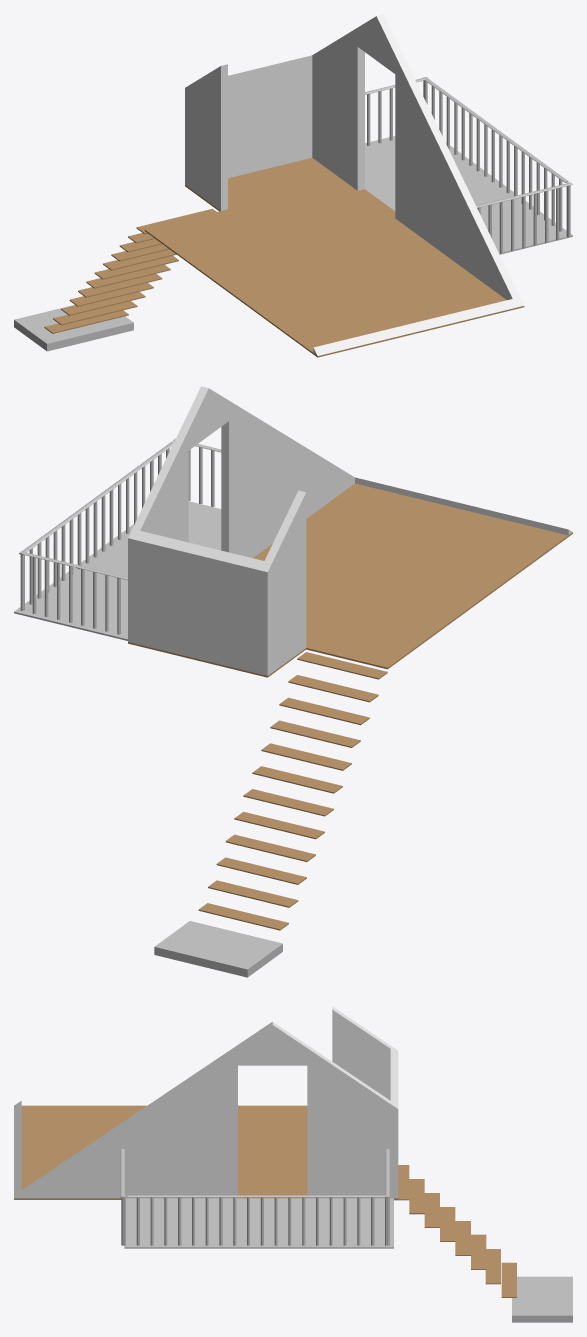
The model's file is Yogaraum_balken_v3-ZwiGescho.gltf.
The picture shows the model from 3 angles, top to bottom: view 1: azimuth 30°, elevation 25°; view 2: azimuth 150°, elevation 25°; view 3: azimuth 270°, elevation 25°; orthographic projection. The views are drawn at different scales.
Visible parts, largest first — view 1: Cut047, Cut046, Compound053, Extrude122, Extrude120, Extrude080, Extrude125, Extrude121, Extrude123; view 2: Cut047, Cut046, Compound053, Extrude122, Extrude080, Extrude120, Extrude123, Extrude121; view 3: Cut047, Cut046, Extrude122, Compound053, Extrude120, Extrude080, Extrude121.
Part boxes in pixels (x1,y1,x2,y2): Cut047: (185, 14, 523, 355); Cut046: (144, 158, 524, 357); Compound053: (44, 208, 216, 333); Extrude122: (365, 136, 572, 254); Extrude120: (424, 80, 568, 236); Extrude080: (14, 305, 133, 351); Extrude125: (477, 185, 570, 254); Extrude121: (423, 77, 568, 182); Extrude123: (367, 80, 424, 145); Cut047: (128, 386, 572, 675); Cut046: (128, 483, 572, 677); Compound053: (198, 652, 387, 930); Extrude122: (14, 501, 221, 640); Extrude080: (154, 921, 282, 977); Extrude120: (24, 441, 174, 609); Extrude123: (20, 555, 120, 634); Extrude121: (19, 441, 173, 554); Cut047: (14, 1006, 398, 1198); Cut046: (14, 1105, 398, 1199); Extrude122: (124, 1198, 393, 1248); Compound053: (394, 1165, 516, 1297); Extrude120: (123, 1195, 387, 1245); Extrude080: (512, 1276, 572, 1322); Extrude121: (127, 1195, 389, 1197).
Bounding box in the file's own units: 4.35 × 5.04 × 7.26.
